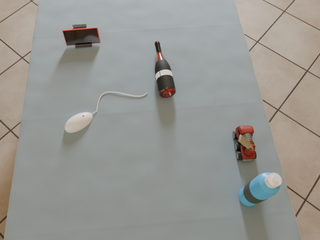bottle: (239, 173, 282, 206), (155, 41, 176, 97)
mouse: (65, 112, 93, 133)
phone: (62, 27, 100, 46)
toy_car: (233, 126, 256, 161)
